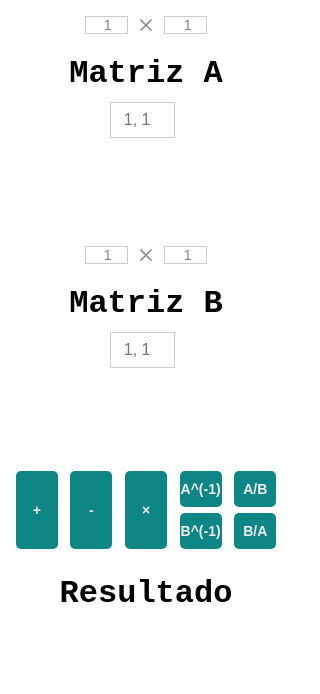
Test: Componente de MatrizForm › Verificar que la inversa de A, contenga la etiqueta del determinante
This screenshot has width=320, height=694.
// Cambia el valor del input 1, 1 de la matriz A
In the number field with placeholder "1, 1" below "Matriz A": (142, 120) [110,102,174,138], type "1"
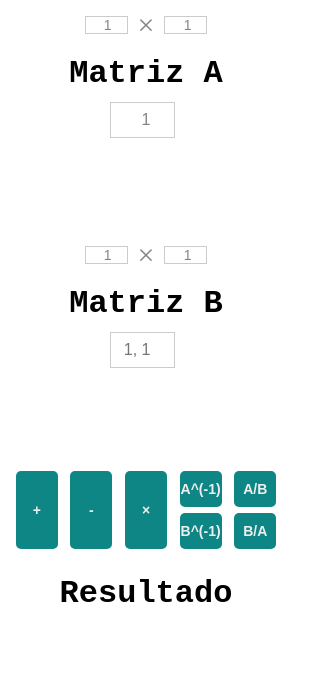
// Obtenemos la referencia del boton
Click the button "A^(-1)": click(201, 489) [180,471,222,507]
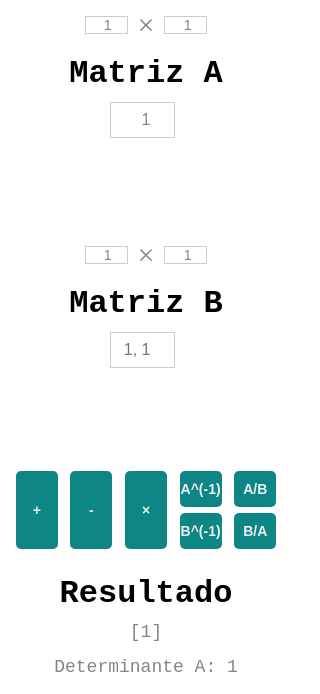
Check: the text "Determinante A: 1" is shown, box [54,657,238,677]
